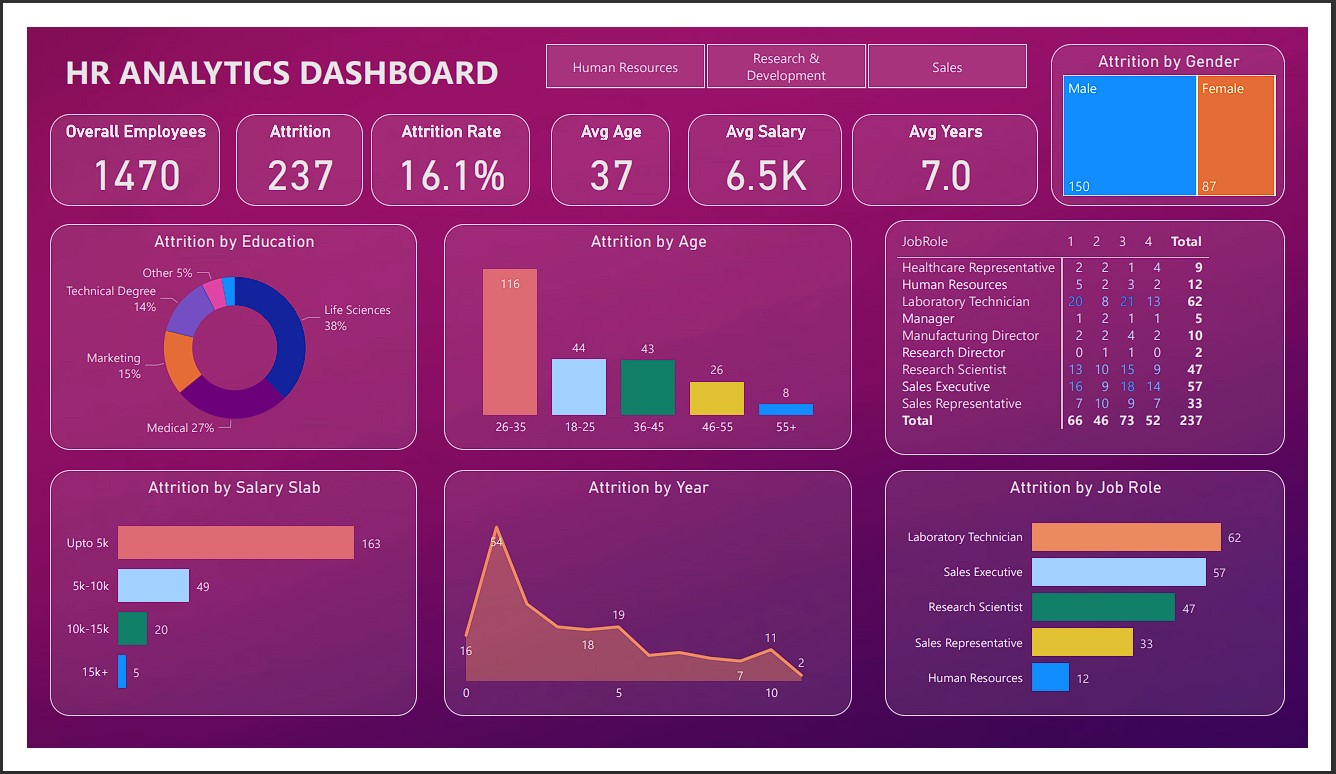

This screenshot's page, from the dashboard's own definition file:
{"tool":"powerbi","page":{"name":"Page 1","canvas":[1280,720],"ordinal":0},"visuals":[{"type":"card","title":"Overall Employees","fields":{"Values":["CountNonNull(HR_Analytics.EmpID)"]},"box":[23,86.9,169.7,91.9],"z":0},{"type":"card","title":"Attrition","fields":{"Values":["Sum(HR_Analytics.Attrition Count)"]},"box":[208.7,86.9,127.8,91.9],"z":1000},{"type":"card","title":"Attrition Rate","fields":{"Values":["HR_Analytics.AttritionRate"]},"box":[344.5,86.9,158.8,91.9],"z":2000},{"type":"card","title":"Avg Age","fields":{"Values":["Avg(HR_Analytics.Age)"]},"box":[524.2,86.9,118.8,91.9],"z":3000},{"type":"card","title":"Avg Salary","fields":{"Values":["Avg(HR_Analytics.MonthlyIncome)"]},"box":[661,86.9,153.8,91.9],"z":4000},{"type":"card","title":"Avg Years","fields":{"Values":["Avg(HR_Analytics.YearsAtCompany)"]},"box":[824.7,86.9,186.7,91.9],"z":5000},{"type":"donutChart","title":"Attrition by Education","fields":{"Category":["HR_Analytics.EducationField"],"Y":["Sum(HR_Analytics.Attrition Count)"]},"box":[23,196.7,367.4,226.6],"z":6000},{"type":"columnChart","title":"Attrition by Age","fields":{"Category":["HR_Analytics.AgeGroup"],"Y":["Sum(HR_Analytics.Attrition Count)"]},"box":[417.3,196.7,407.4,226.6],"z":7000},{"type":"pivotTable","fields":{"Rows":["HR_Analytics.JobRole"],"Columns":["HR_Analytics.JobSatisfaction"],"Values":["Sum(HR_Analytics.Attrition Count)"]},"box":[857.7,192.7,400.4,235.6],"z":8000},{"type":"barChart","title":"Attrition by Salary Slab","fields":{"Category":["HR_Analytics.SalarySlab"],"Y":["Sum(HR_Analytics.Attrition Count)"]},"box":[23,443.3,367.4,245.6],"z":9000},{"type":"barChart","title":"Attrition by Job Role","fields":{"Category":["HR_Analytics.JobRole"],"Y":["Sum(HR_Analytics.Attrition Count)"]},"box":[857.7,443.3,400.4,245.6],"z":10000},{"type":"areaChart","title":"Attrition by Year","fields":{"Category":["HR_Analytics.YearsAtCompany"],"Y":["Sum(HR_Analytics.Attrition Count)"]},"box":[417.3,443.3,407.4,245.6],"z":11000},{"type":"slicer","fields":{"Values":["HR_Analytics.Department"]},"box":[493.2,10,531.2,50.9],"z":12000},{"type":"textbox","box":[32.9,17,470.3,59.9],"z":13000},{"type":"treemap","title":"Attrition by Gender","fields":{"Group":["HR_Analytics.Gender"],"Values":["Sum(HR_Analytics.Attrition Count)"]},"box":[1024.4,17,233.6,161.7],"z":14000}]}

Visuals, with their boxes in screenshot pixels (x1, y1, x2, y2), scaled from the page's 1280x720 canvas onto the 1336x774 screenshot:
"Overall Employees" card: {"x1": 24, "y1": 93, "x2": 201, "y2": 192}
"Attrition" card: {"x1": 218, "y1": 93, "x2": 351, "y2": 192}
"Attrition Rate" card: {"x1": 360, "y1": 93, "x2": 525, "y2": 192}
"Avg Age" card: {"x1": 547, "y1": 93, "x2": 671, "y2": 192}
"Avg Salary" card: {"x1": 690, "y1": 93, "x2": 850, "y2": 192}
"Avg Years" card: {"x1": 861, "y1": 93, "x2": 1056, "y2": 192}
"Attrition by Education" donutChart: {"x1": 24, "y1": 211, "x2": 407, "y2": 455}
"Attrition by Age" columnChart: {"x1": 436, "y1": 211, "x2": 861, "y2": 455}
pivotTable - HR_Analytics.JobRole x HR_Analytics.JobSatisfaction: {"x1": 895, "y1": 207, "x2": 1313, "y2": 460}
"Attrition by Salary Slab" barChart: {"x1": 24, "y1": 477, "x2": 407, "y2": 741}
"Attrition by Job Role" barChart: {"x1": 895, "y1": 477, "x2": 1313, "y2": 741}
"Attrition by Year" areaChart: {"x1": 436, "y1": 477, "x2": 861, "y2": 741}
slicer - HR_Analytics.Department: {"x1": 515, "y1": 11, "x2": 1069, "y2": 65}
textbox: {"x1": 34, "y1": 18, "x2": 525, "y2": 83}
"Attrition by Gender" treemap: {"x1": 1069, "y1": 18, "x2": 1313, "y2": 192}
